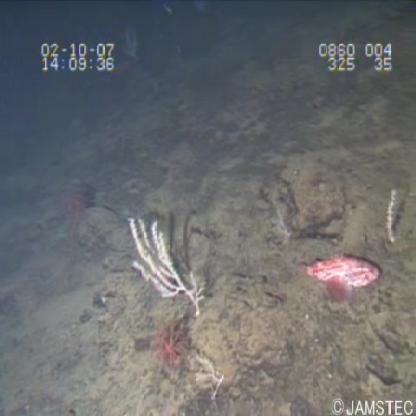Bio: (126, 212, 205, 324), (294, 243, 386, 307)
